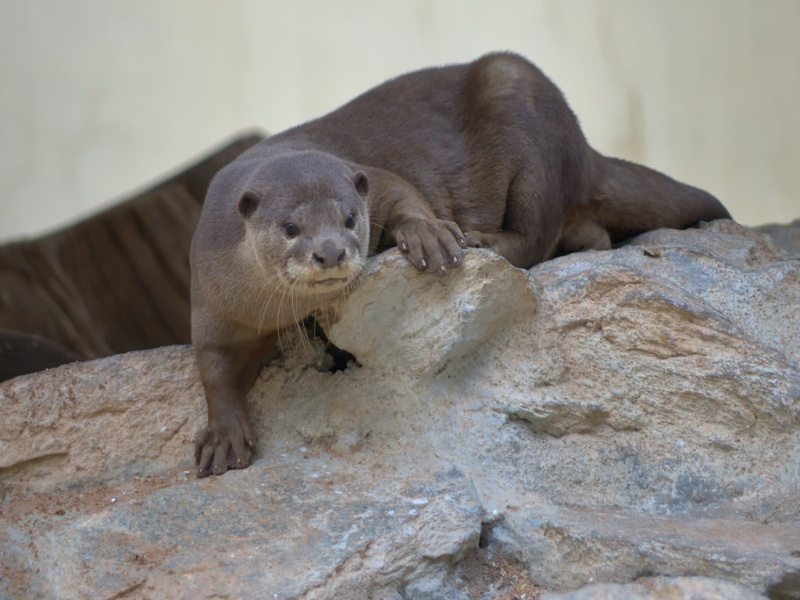minkish: (190, 48, 739, 480)
